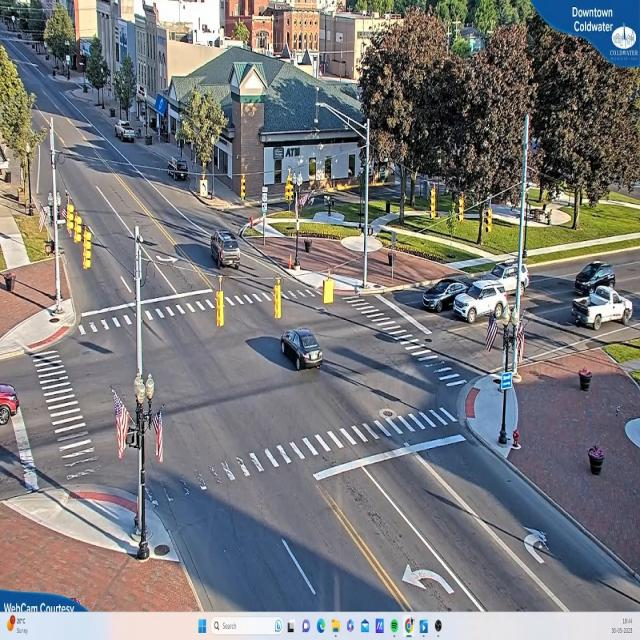car: (572, 286, 636, 331), (453, 288, 509, 325), (281, 326, 324, 372), (422, 280, 477, 312), (476, 264, 530, 296), (574, 263, 617, 297), (210, 232, 242, 268), (1, 384, 22, 423), (118, 121, 138, 142)
